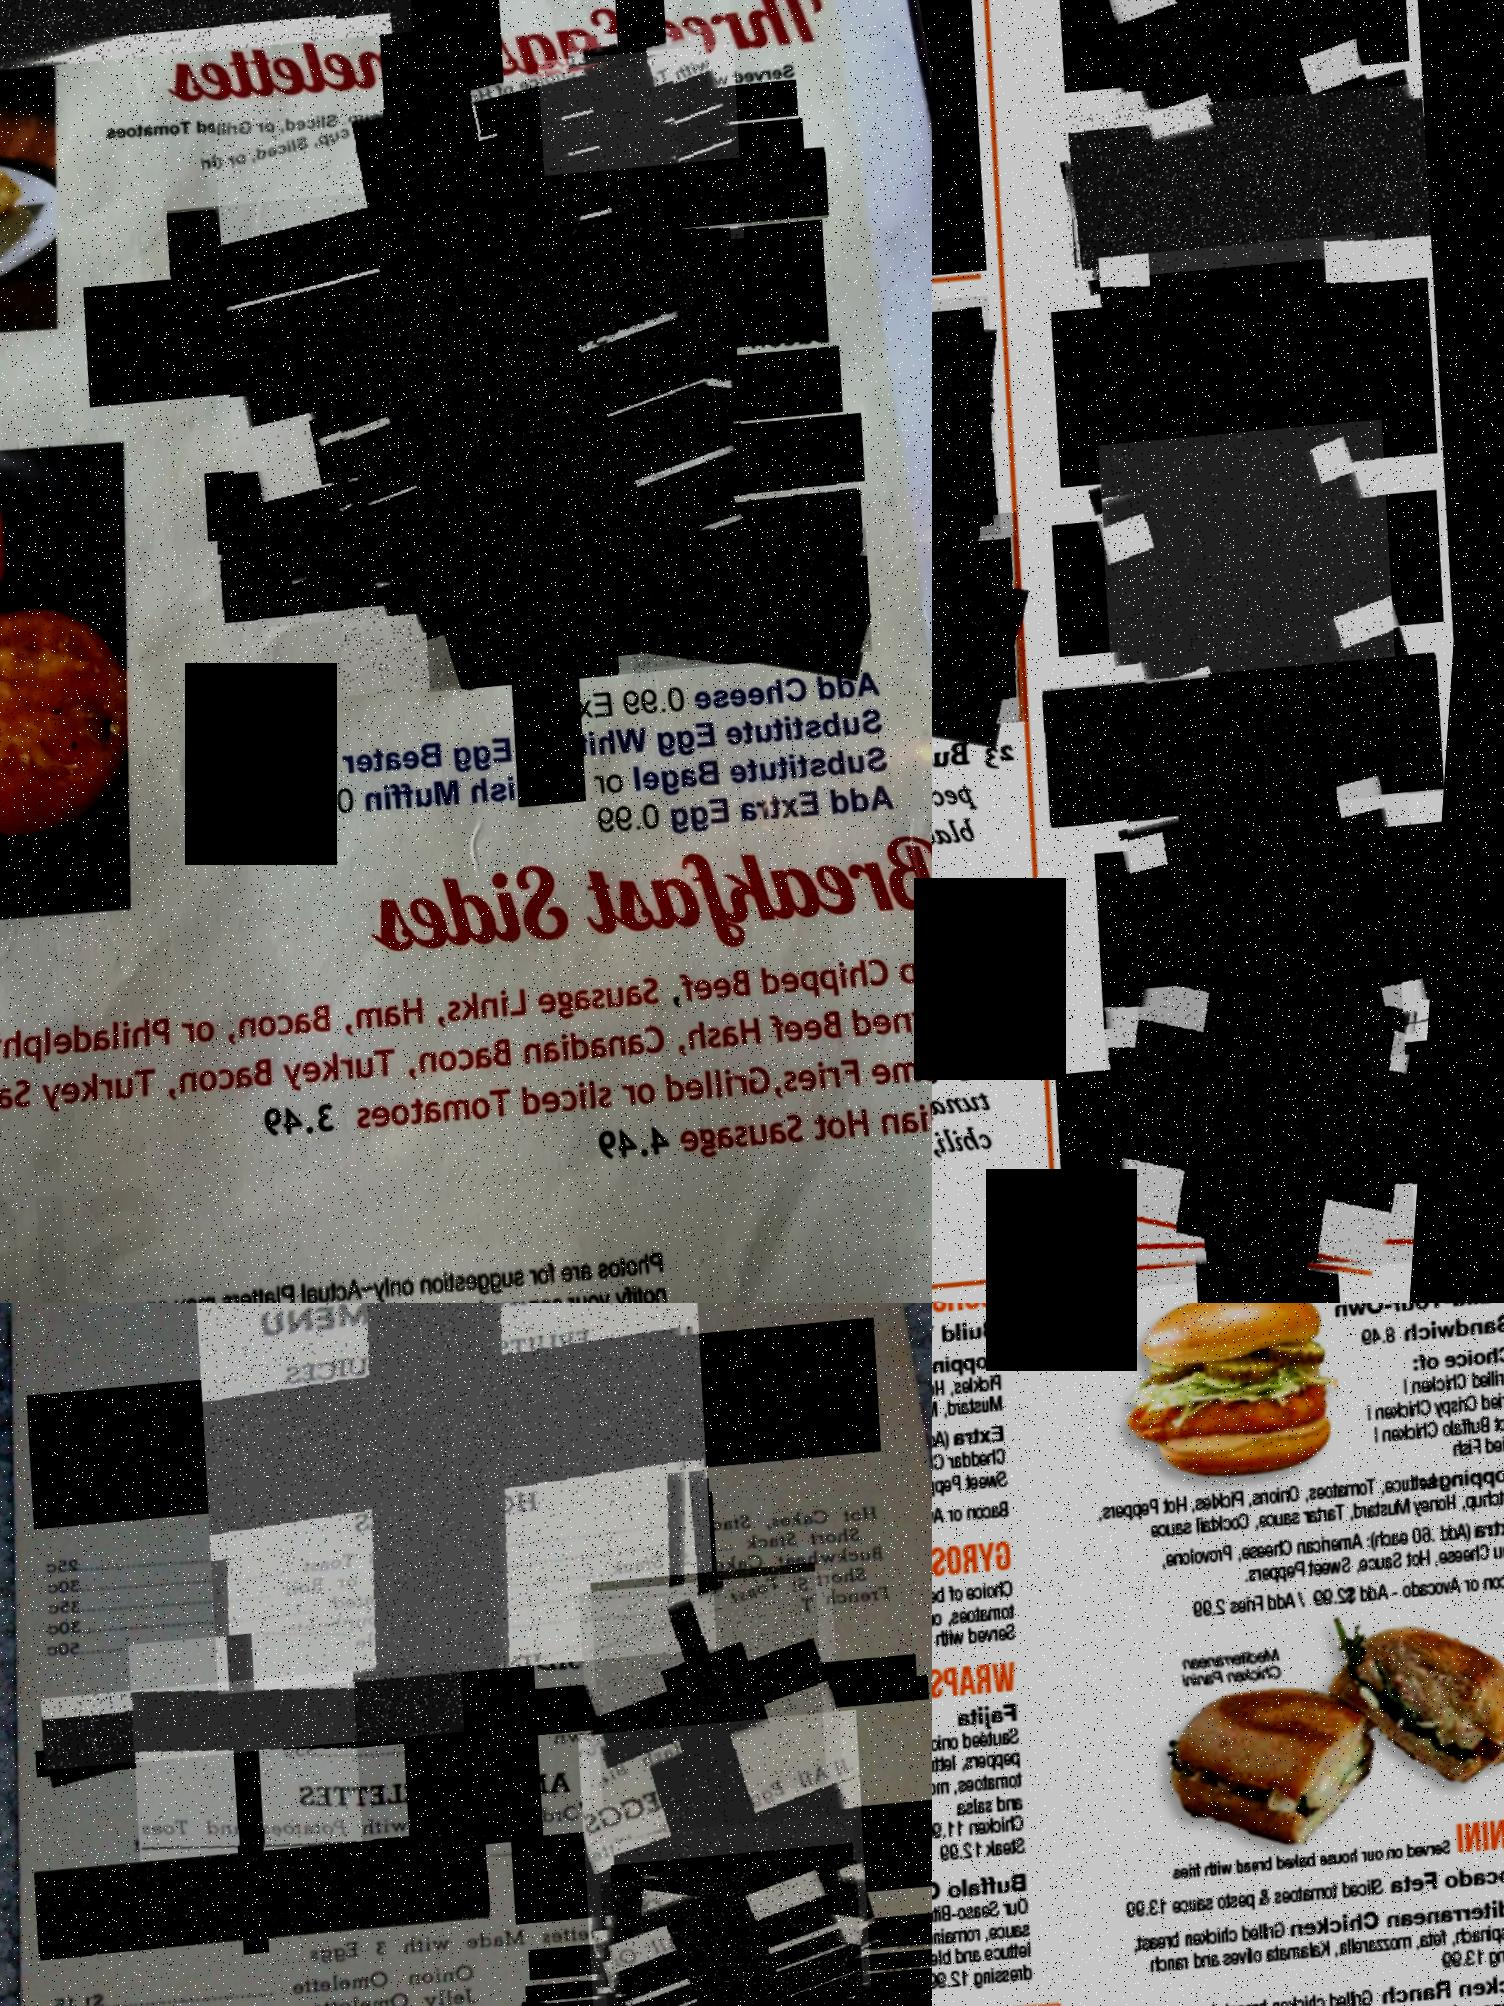Menu-Items: (199, 44, 739, 570), (167, 1303, 752, 1703), (314, 242, 785, 700), (1021, 1303, 1504, 1662), (395, 208, 782, 584), (227, 442, 886, 641), (1104, 949, 1450, 1289), (175, 126, 844, 289), (1095, 404, 1427, 728), (1126, 757, 1458, 1079), (1092, 218, 1416, 532), (573, 1696, 901, 2006), (1081, 1782, 1504, 2006), (433, 509, 896, 697), (575, 1557, 870, 1845), (1060, 66, 1449, 284), (1049, 635, 1466, 829), (43, 1815, 507, 1968), (588, 1551, 850, 1807), (126, 1616, 387, 1869), (932, 1649, 1095, 2006), (611, 1801, 894, 2006), (47, 1646, 480, 1779), (537, 32, 766, 254), (610, 1831, 894, 2006), (600, 1846, 901, 2006), (1096, 0, 1381, 160), (567, 11, 758, 196), (932, 496, 1054, 764), (51, 1937, 506, 2006), (932, 1303, 1049, 1570), (932, 281, 1025, 572), (932, 1027, 1066, 1199), (932, 866, 1055, 1050), (932, 1516, 1060, 1692), (932, 711, 1051, 889), (531, 1959, 932, 2006), (54, 1968, 501, 2006), (536, 1971, 932, 2006)
